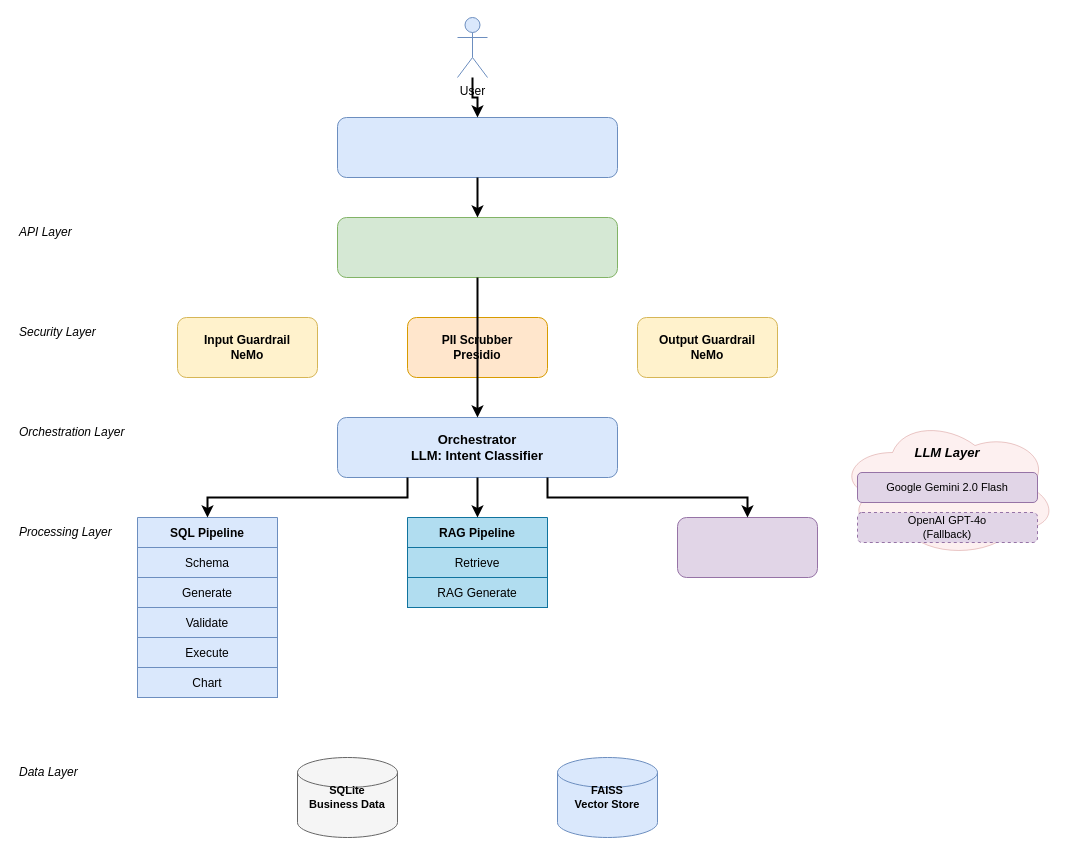
The diagram is 1075 pixels wide and 855 high, and some of its shapes have lost their labels. Here are the shapes that lost their labels. From the top down, the centre of each, then its label:
At [477,147]: "React Web UI".
At [477,247]: "FastAPI Server REST API + SSE".
At [747,547]: "General Direct Response".
